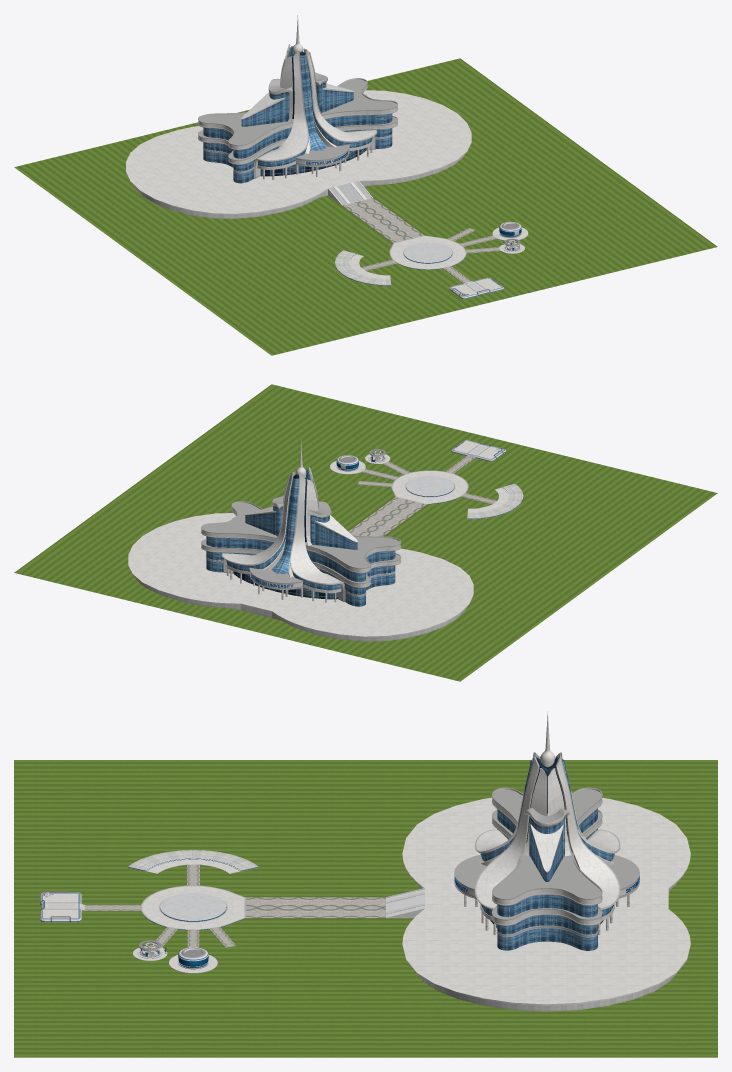
The model's file is Setterlun_University_Env.fbx.
3 renders of one model, top to bottom at view 1: azimuth 30°, elevation 25°; view 2: azimuth 150°, elevation 25°; view 3: azimuth 270°, elevation 25°, orthographic. The views are drawn at different scales.
Parts seen in each view (by area): view 1: GrassGround, Shape001_U005, Uni_Base002, Uni_Front002, NexusHub002, Uni_Road006, UniWing_005, MP_Dock002, UniWing_007, Uni_Shed002, Uni_Stairs006, FoundingDock003 (+1 smaller); view 2: GrassGround, Shape001_U005, Uni_Base002, Uni_Front003, NexusHub002, Uni_Road006, UniWing_005, MP_Dock002, UniWing_007, Uni_Shed002, FoundingDock003, Uni_Enterance002; view 3: GrassGround, Shape001_U005, Uni_Base002, Uni_Front003, Uni_Front002, NexusHub002, Uni_Road006, UniWing_007, MP_Dock002, Uni_Shed002, FoundingDock003, Uni_Stairs006 (+1 smaller).
Part boxes in pixels (left/top/right/bottom): GrassGround: left=14, top=58, right=717, bottom=355; Shape001_U005: left=126, top=90, right=471, bottom=218; Uni_Base002: left=198, top=78, right=397, bottom=183; Uni_Front002: left=254, top=49, right=377, bottom=178; NexusHub002: left=389, top=235, right=466, bottom=269; Uni_Road006: left=342, top=198, right=423, bottom=242; UniWing_005: left=241, top=78, right=292, bottom=126; MP_Dock002: left=335, top=250, right=391, bottom=285; UniWing_007: left=315, top=72, right=354, bottom=112; Uni_Shed002: left=279, top=144, right=349, bottom=166; Uni_Stairs006: left=328, top=181, right=372, bottom=205; FoundingDock003: left=449, top=277, right=503, bottom=299; GrassGround: left=14, top=384, right=717, bottom=681; Shape001_U005: left=128, top=513, right=473, bottom=641; Uni_Base002: left=201, top=501, right=401, bottom=606; Uni_Front003: left=221, top=472, right=345, bottom=601; NexusHub002: left=391, top=470, right=468, bottom=504; Uni_Road006: left=348, top=497, right=426, bottom=536; UniWing_005: left=307, top=501, right=357, bottom=549; MP_Dock002: left=467, top=483, right=523, bottom=519; UniWing_007: left=245, top=495, right=283, bottom=535; Uni_Shed002: left=249, top=568, right=319, bottom=589; FoundingDock003: left=451, top=440, right=505, bottom=461; Uni_Enterance002: left=233, top=571, right=337, bottom=599; GrassGround: left=14, top=760, right=717, bottom=1057; Shape001_U005: left=402, top=797, right=690, bottom=1011; Uni_Base002: left=492, top=787, right=602, bottom=950; Uni_Front003: left=548, top=752, right=620, bottom=920; Uni_Front002: left=474, top=752, right=547, bottom=920; NexusHub002: left=140, top=885, right=245, bottom=930; Uni_Road006: left=246, top=897, right=385, bottom=918; UniWing_007: left=524, top=808, right=569, bottom=881; MP_Dock002: left=128, top=850, right=258, bottom=873; Uni_Shed002: left=454, top=854, right=639, bottom=899; FoundingDock003: left=40, top=892, right=81, bottom=922; Uni_Stairs006: left=386, top=888, right=424, bottom=918.
Bounding box in the file's own units: 425 × 132 × 425.
